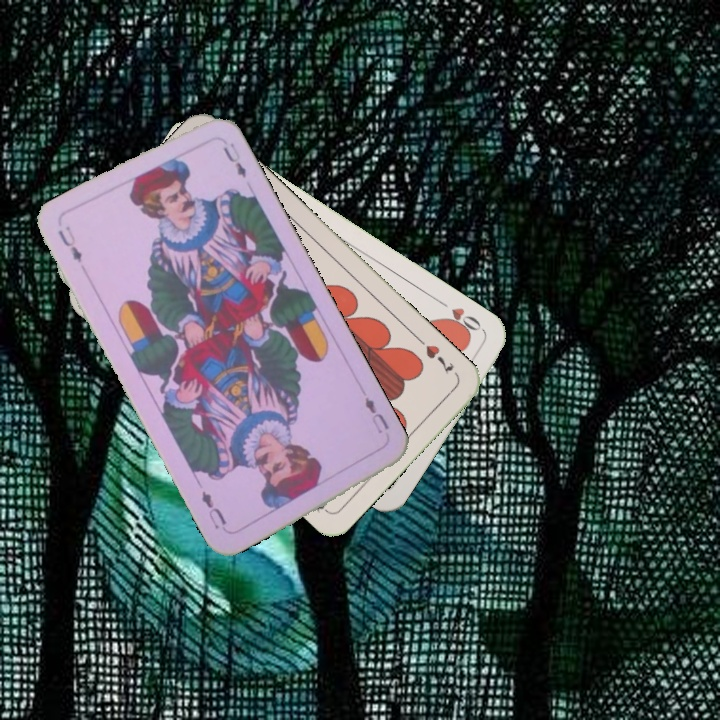EU: (358, 387, 392, 436), (54, 222, 85, 265)
H7: (413, 333, 457, 377)
HO: (434, 296, 486, 339)
